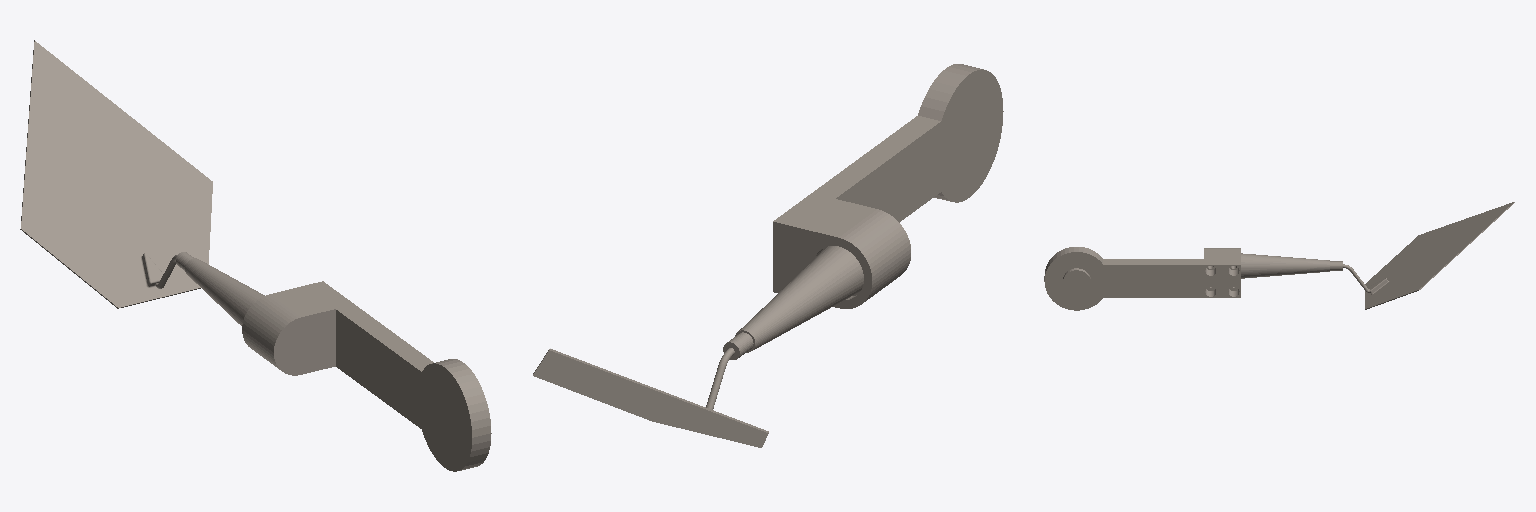
URDF robot description (ur10_shovel_tool):
<?xml version="1.0" encoding="utf-8"?>
<!-- This URDF was automatically created by SolidWorks to URDF Exporter! Originally created by Stephen Brawner (brawner@gmail.com) 
     Commit Version: 1.6.0-1-g15f4949  Build Version: 1.6.7594.29634
     For more information, please see http://wiki.ros.org/sw_urdf_exporter -->
<robot
  name="ur10_shovel_tool">
  <link
    name="base_link">
    <inertial>
      <origin
        xyz="-0.0047632 0.00057508 -0.1224"
        rpy="0 0 0" />
      <mass
        value="2.5" />
      <inertia
        ixx="0.008126"
        ixy="-1.5225E-08"
        ixz="-1.5303E-05"
        iyy="0.0079565"
        iyz="0.00026644"
        izz="0.00048604" />
    </inertial>
    <visual>
      <origin
        xyz="0 0 0"
        rpy="0 0 0" />
      <geometry>
        <mesh
          filename="package://ur10_shovel_tool/meshes/base_link.STL" />
      </geometry>
      <material
        name="">
        <color
          rgba="0.65098 0.61961 0.58824 1" />
      </material>
    </visual>
    <collision>
      <origin
        xyz="0 0 0"
        rpy="0 0 0" />
      <geometry>
        <mesh
          filename="package://ur10_shovel_tool/meshes/base_link.STL" />
      </geometry>
    </collision>
  </link>
  <link
    name="shovel_tcp">
    <inertial>
      <origin
        xyz="1.0408E-17 -0.00029192 -5E-05"
        rpy="0 0 0" />
      <mass
        value="1e-8" />
      <inertia
        ixx="1e-10"
        ixy="0"
        ixz="0"
        iyy="1e-10"
        iyz="0"
        izz="1e-10" />
    </inertial>
    <visual>
      <origin
        xyz="0 0 0"
        rpy="0 0 0" />
      <geometry>
        <mesh
          filename="package://ur10_shovel_tool/meshes/shovel_tcp.STL" />
      </geometry>
      <material
        name="">
        <color
          rgba="1 1 1 1" />
      </material>
    </visual>
  </link>
  <joint
    name="shovel_tcp_joint"
    type="fixed">
    <origin
      xyz="-0.025 0.47377 0.077109"
      rpy="0.61087 0 -1.04E-05" />
    <parent
      link="base_link" />
    <child
      link="shovel_tcp" />
  </joint>
</robot>

--- Facts derived from the render (not from the file) ---
Views: 3 orthographic renders of the robot side by side, from view 1: azimuth 30°, elevation 25°; view 2: azimuth 150°, elevation 25°; view 3: azimuth 270°, elevation 25°.
Robot: ur10_shovel_tool — 2 links, 1 joints (1 fixed); root link base_link; default pose: all joints at 0.
Visible links, largest first — view 1: base_link; view 2: base_link; view 3: base_link.
Link boxes in pixels (<box>): base_link: <box>20,40,491,471</box>; base_link: <box>533,64,1003,447</box>; base_link: <box>1044,202,1514,310</box>.
Bounding box of the posed robot: 0.14 × 0.5094 × 0.1143 m (x, y, z).
Meshes: 2 distinct files referenced, 2 mesh visuals loaded (2 binary STL).
